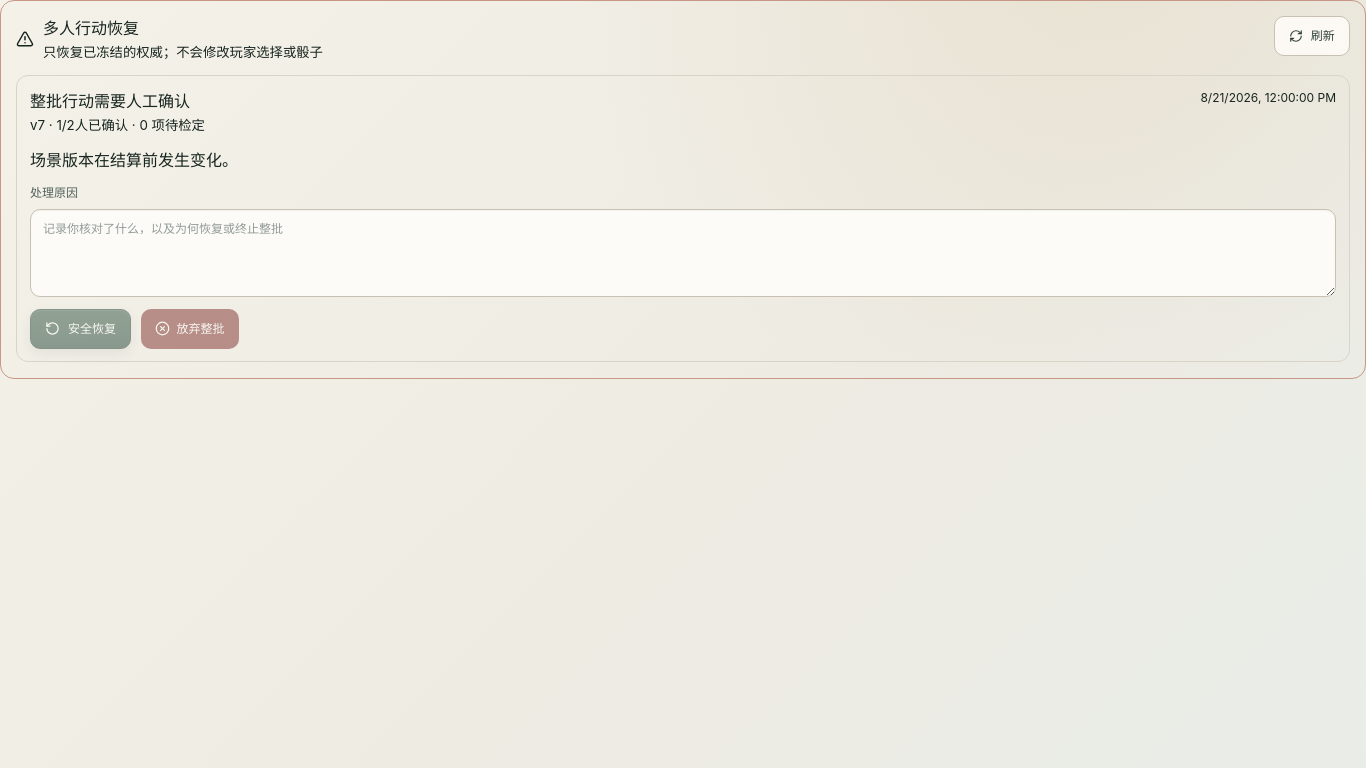
Test case: ParallelActionAttentionPanel › shows a version conflict and lets the KP clear it with an explicit refresh
Check: the text "场景版本在结算前发生变化。" is shown, box [30,150,238,170]
Step 1. Type "按冻结版本恢复。" into the text box labelled "处理原因" → x=683, y=252, box [30,208,1336,296]
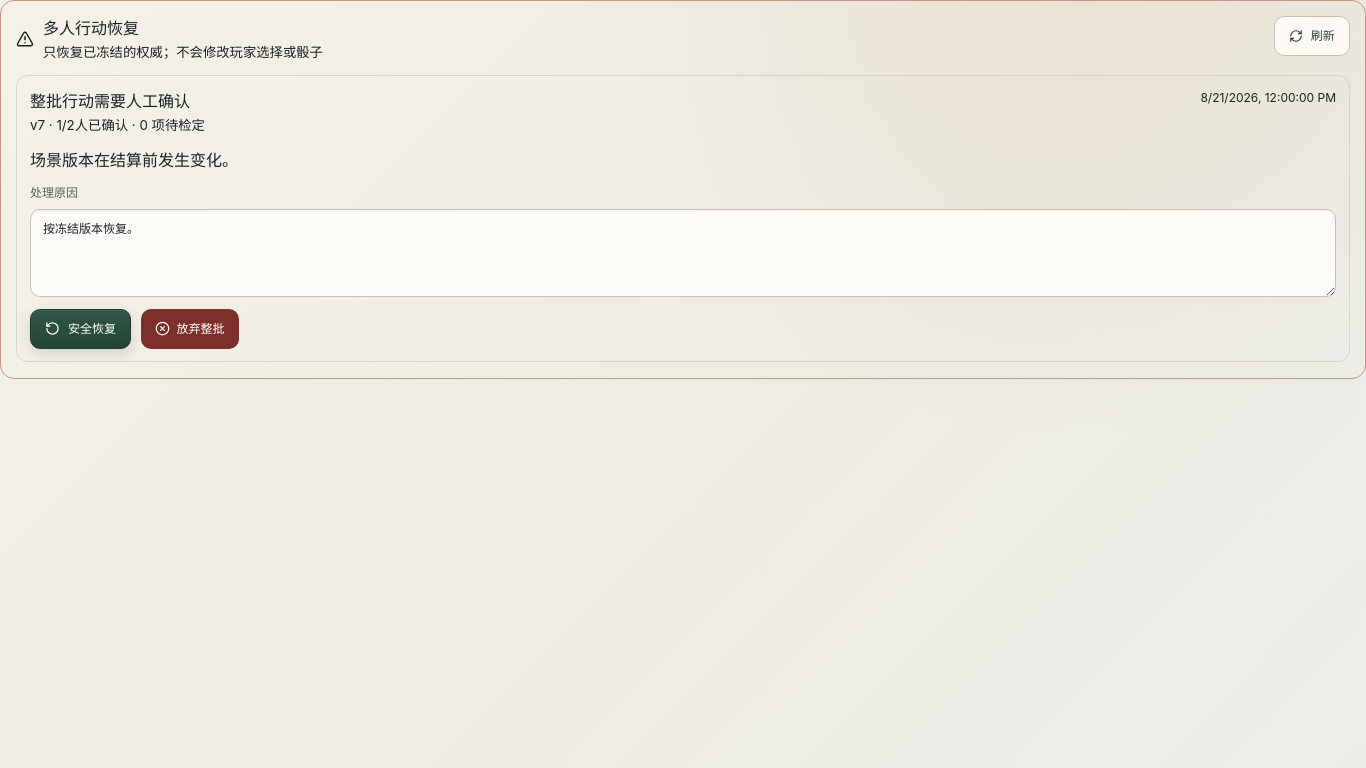
Step 2. Click the button "安全恢复" → x=80, y=328, box [30,308,131,348]
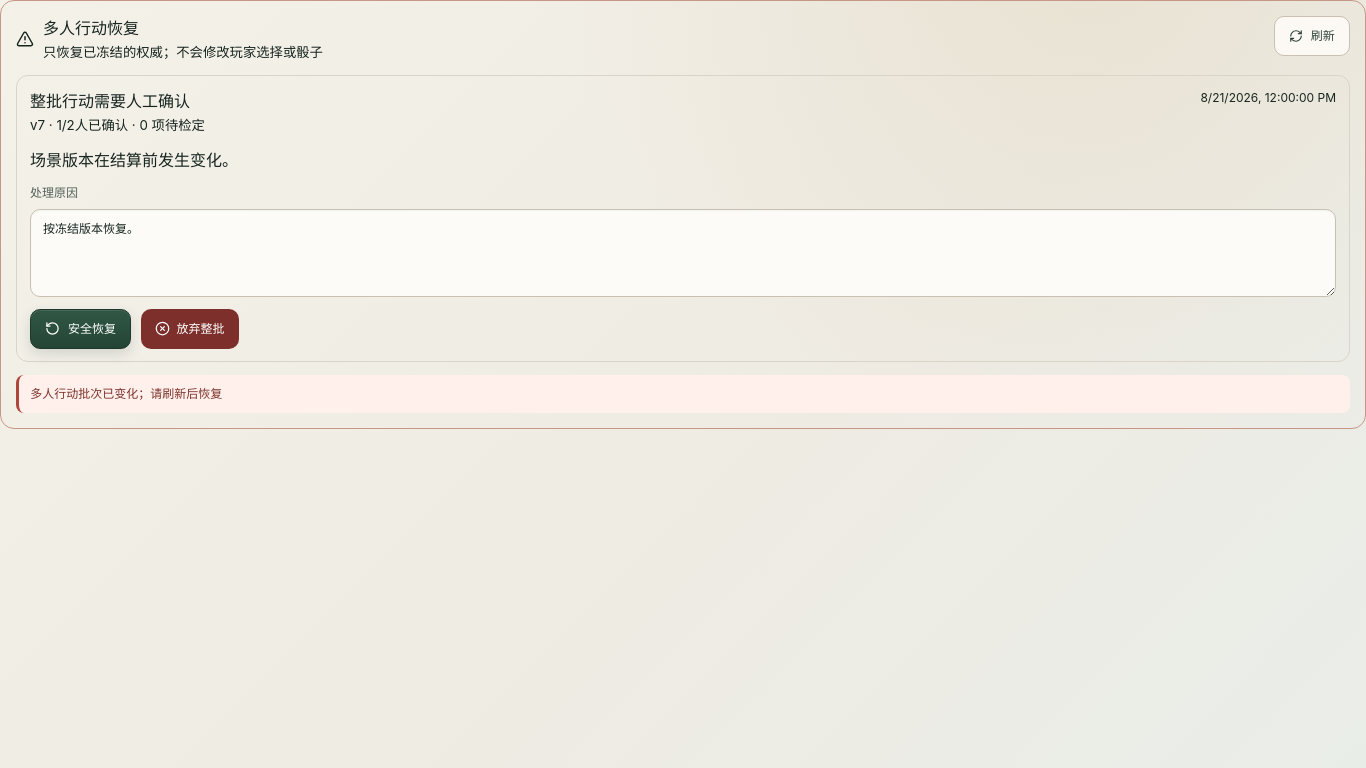
Check: the message reads "多人行动批次已变化；请刷新后恢复", box [30,386,222,401]
Step 3. Click the button "刷新" → x=1312, y=36, box [1274,16,1350,56]
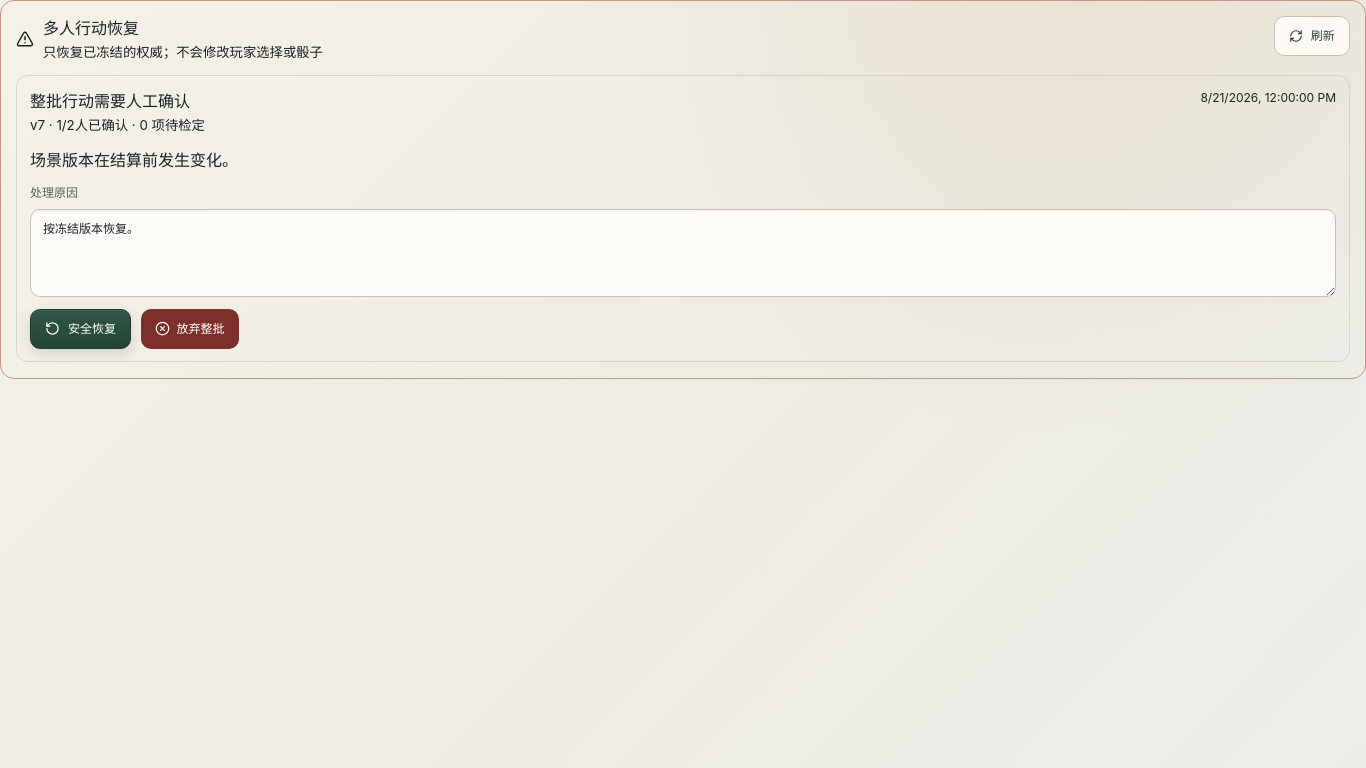
Check: the message "多人行动批次已变化；请刷新后恢复" is gone
